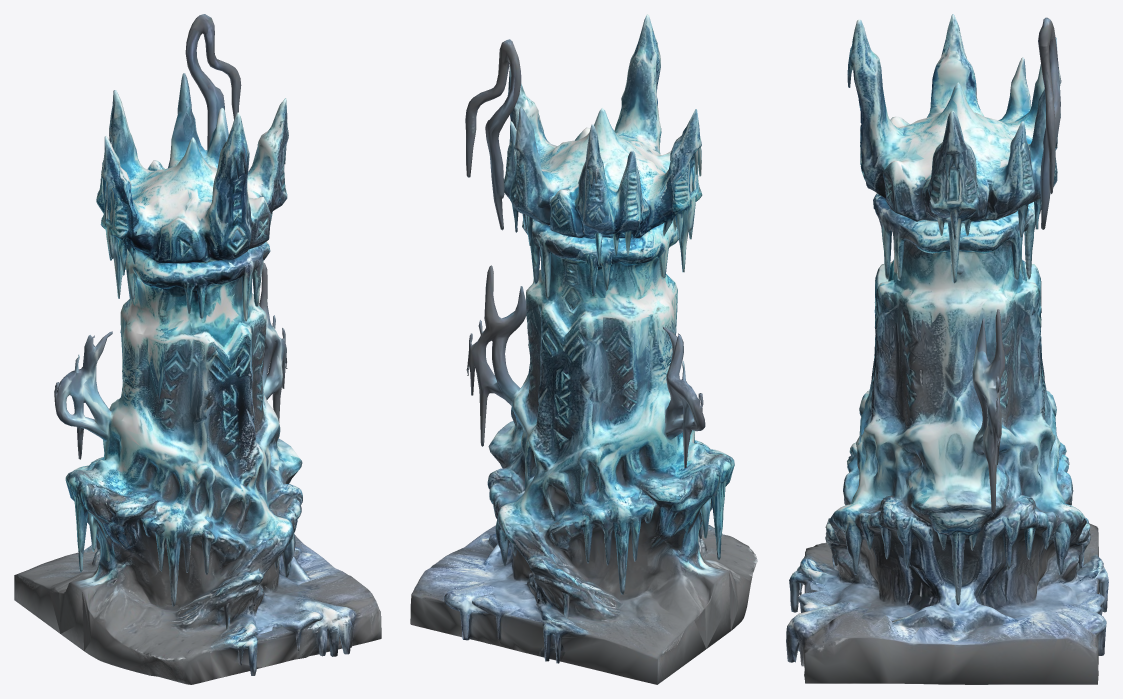
File: ymir_idol.glb
3 renders of one model, left to right at view 1: azimuth 30°, elevation 25°; view 2: azimuth 150°, elevation 25°; view 3: azimuth 270°, elevation 25°, orthographic. The views are drawn at different scales.
Parts seen in each view (by area): view 1: tripo_node_85707870-6dd5-42b0-bedb-4eddc92255b2; view 2: tripo_node_85707870-6dd5-42b0-bedb-4eddc92255b2; view 3: tripo_node_85707870-6dd5-42b0-bedb-4eddc92255b2.
Boxes of the visible parts, left/top/right/bottom form: tripo_node_85707870-6dd5-42b0-bedb-4eddc92255b2: left=14, top=14, right=381, bottom=684; tripo_node_85707870-6dd5-42b0-bedb-4eddc92255b2: left=410, top=14, right=757, bottom=684; tripo_node_85707870-6dd5-42b0-bedb-4eddc92255b2: left=786, top=14, right=1108, bottom=684.
Size of the model in its own units: 0.4458 by 0.9807 by 0.4567.
1 material, 1 textured.
